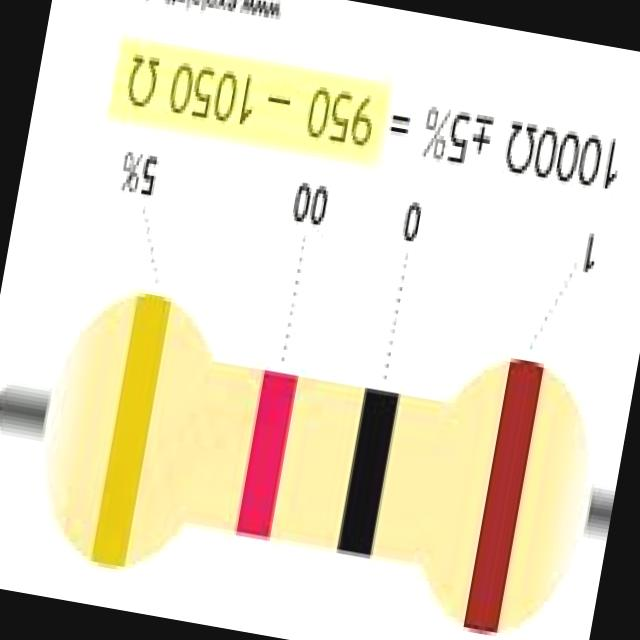Resistor: (47, 297, 590, 634)
black: (329, 365, 402, 562)
brown: (461, 342, 545, 637)
gold: (87, 274, 171, 568), (235, 369, 300, 534)
red: (235, 365, 297, 543)
